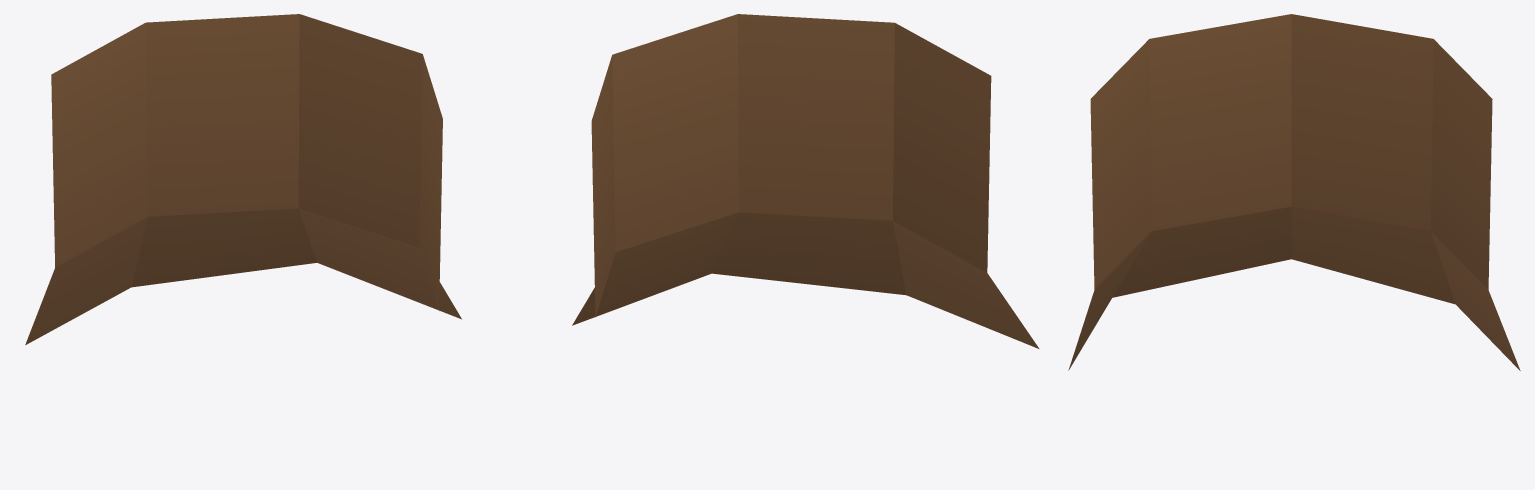
File: stump_1.glb
3 views of the same model, side by side, from view 1: azimuth 30°, elevation 25°; view 2: azimuth 150°, elevation 25°; view 3: azimuth 270°, elevation 25° (orthographic). The views are drawn at different scales.
Parts seen in each view (by area): view 1: stump_1; view 2: stump_1; view 3: stump_1.
Boxes of the visible parts, <box> form: stump_1: <box>25,14,461,344</box>; stump_1: <box>572,14,1039,348</box>; stump_1: <box>1068,14,1520,370</box>.
Bounding box in the file's own units: 0.847 × 0.5124 × 0.748.
